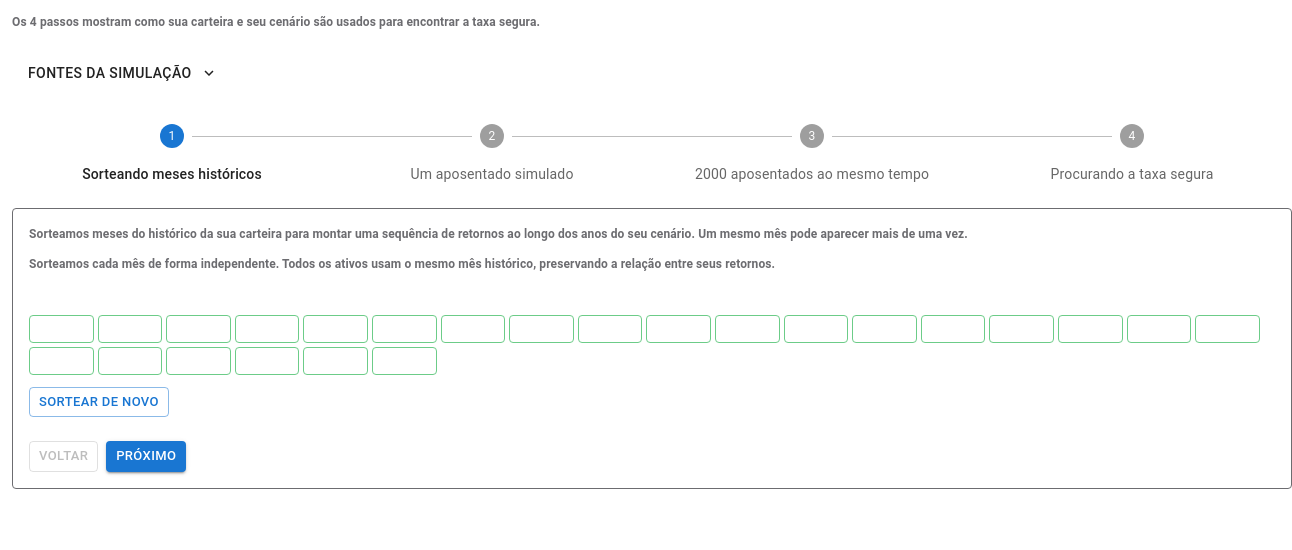
uses readable historical names and Brazilian percentages
Expected: the text "Históricos selecionados:" is not shown
Click the button "Fontes da simulação": click(122, 73) [12,55,232,92]
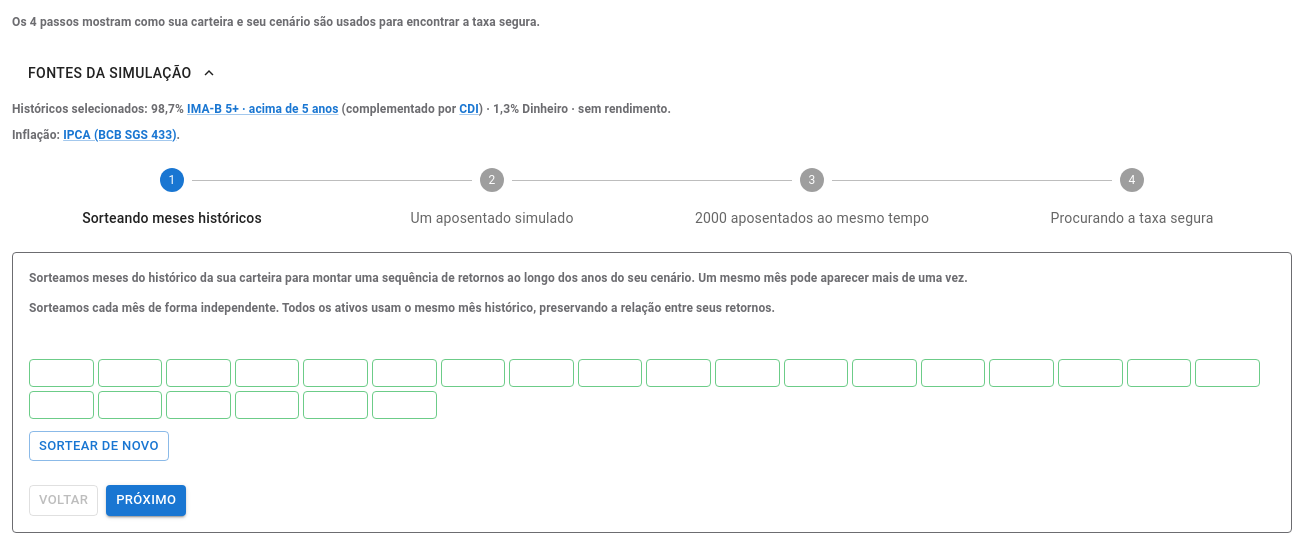
Expected: the text "Históricos selecionados:" does not show "IMA_B_5_PLUS", [12,102,671,116]
Expected: the button "Fontes da simulação" is expanded, [12,55,232,92]
Expected: the text "Históricos selecionados:" shows "1,3% Dinheiro · sem rendimento", [12,102,671,116]
